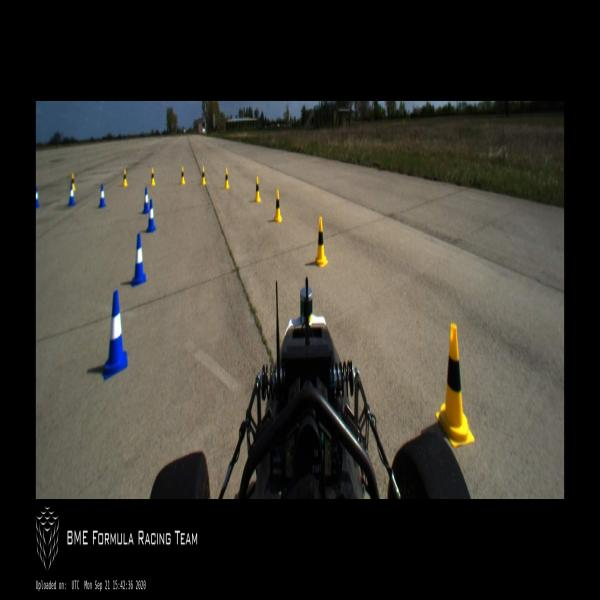blue_cone: (103, 292, 127, 379), (132, 234, 146, 286), (146, 199, 155, 232), (143, 188, 149, 214), (99, 184, 105, 208), (68, 186, 75, 206), (36, 187, 39, 208)
yellow_cone: (436, 325, 474, 446), (314, 217, 328, 268), (274, 189, 282, 223), (255, 176, 260, 202), (225, 169, 230, 189), (201, 167, 206, 185), (123, 169, 127, 187), (181, 166, 185, 184), (71, 173, 75, 190), (150, 168, 154, 185)
